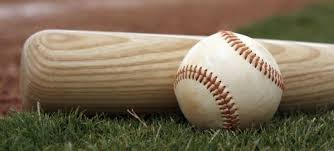baseball bat: (19, 28, 334, 120)
